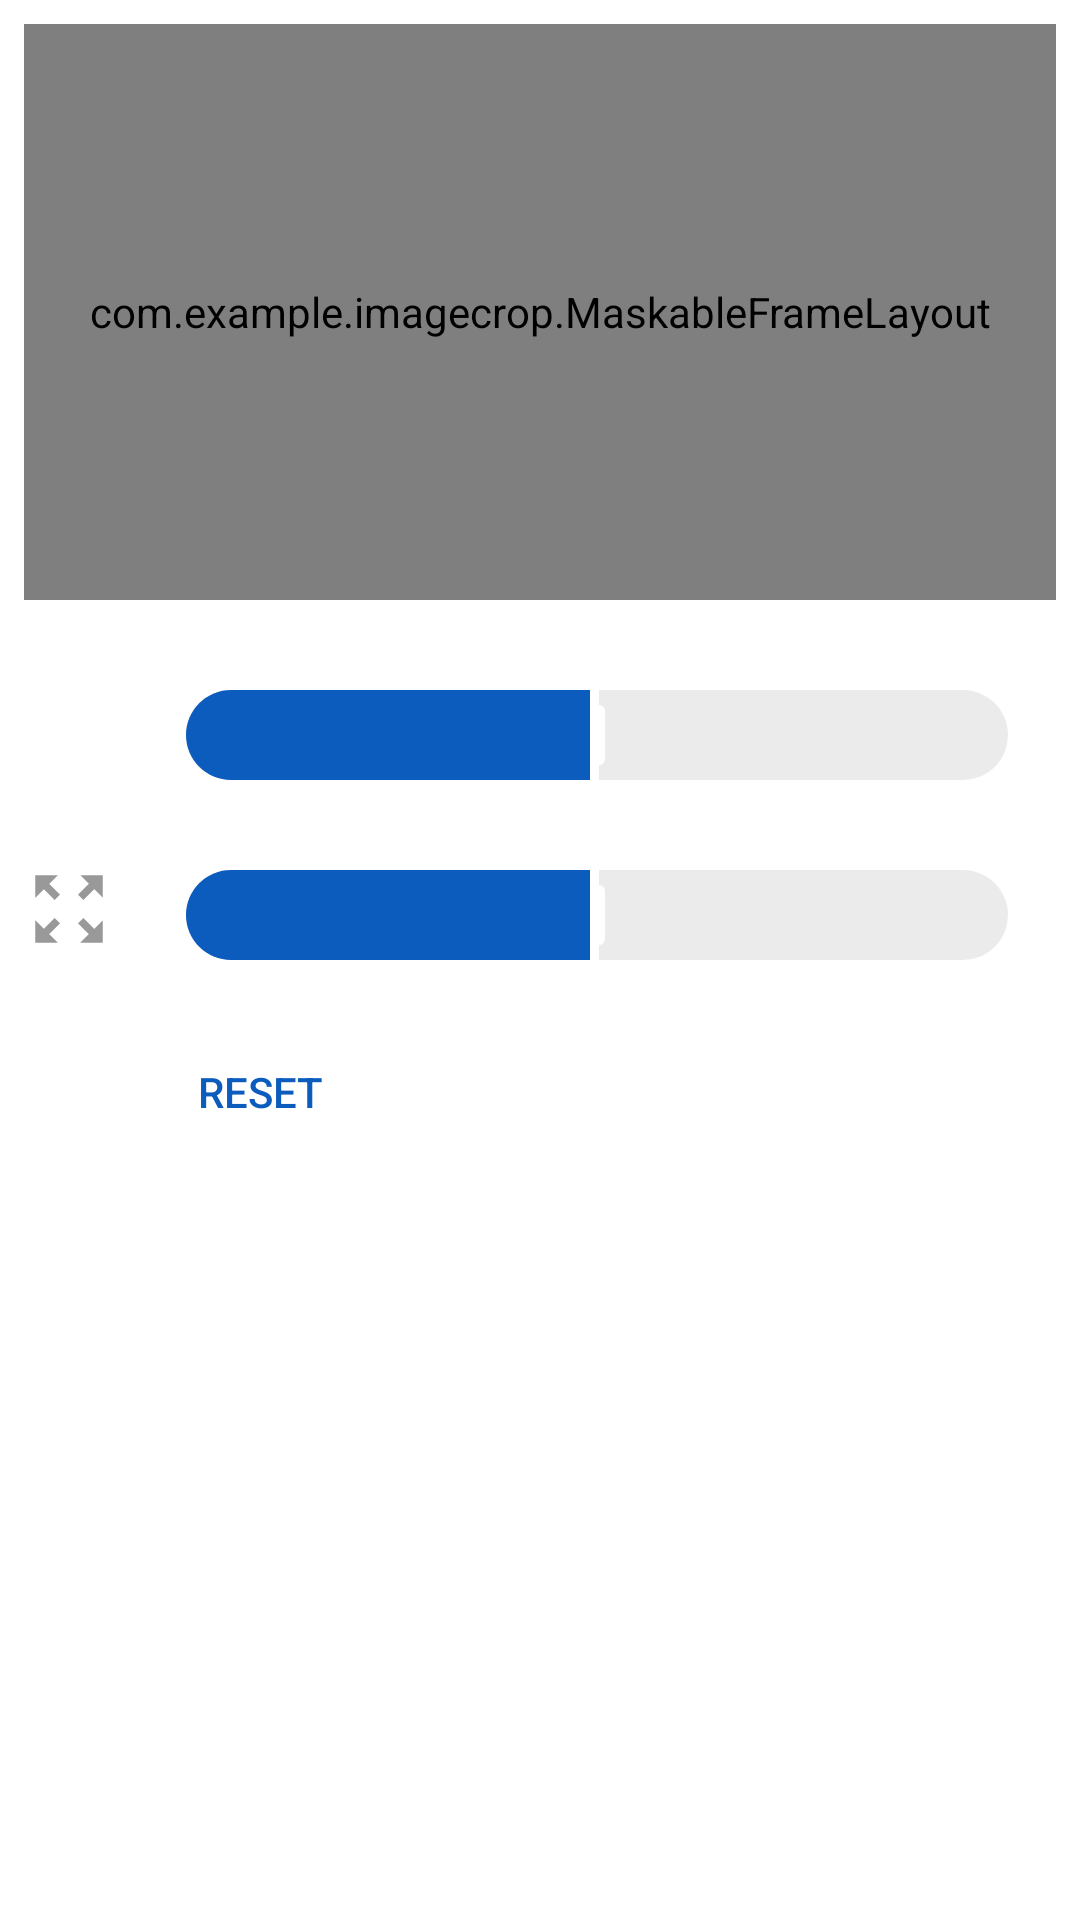

Where icons sit on this 1080 x 1920 app screen, as region(x1, y1, x2, y2):
zoom out map: region(35, 875, 103, 943)
